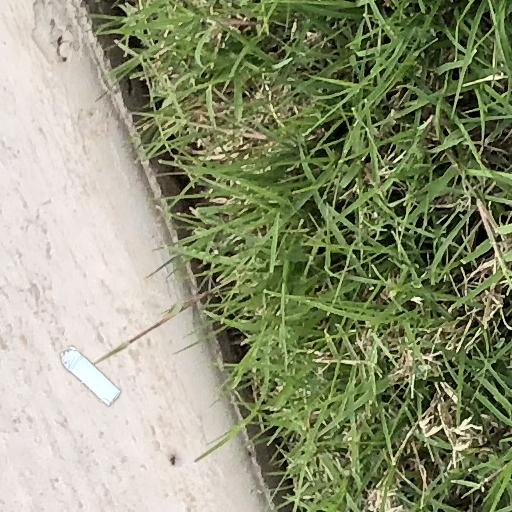smoke: (61, 347, 120, 405)
